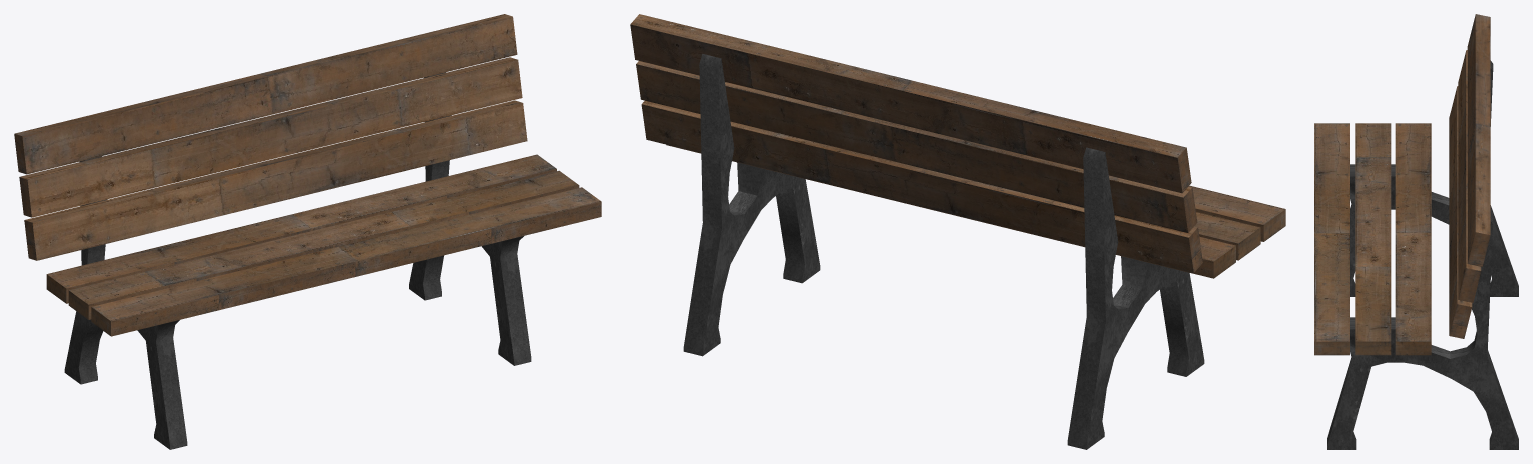
File: bench.glb
3 views of the same model, side by side, from view 1: azimuth 30°, elevation 25°; view 2: azimuth 150°, elevation 25°; view 3: azimuth 270°, elevation 25° (orthographic). The views are drawn at different scales.
Visible parts, largest first — view 1: bench; view 2: bench; view 3: bench.
Part boxes in pixels (x1=…): bench: x1=14, y1=14, x2=601, y2=449; bench: x1=630, y1=14, x2=1285, y2=449; bench: x1=1314, y1=14, x2=1518, y2=449.
Size of the model in its own units: 1.6 by 0.8411 by 0.635.
Materials: 2 (2 with a texture image).
